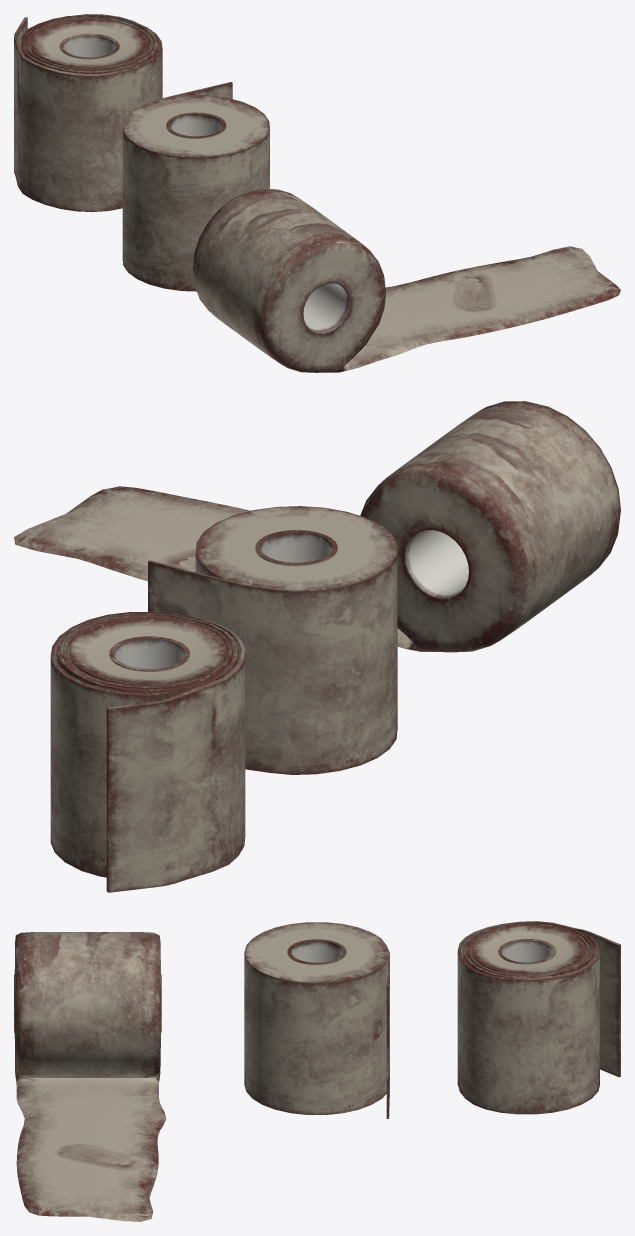
Rendered from bandage.glb.
3 renders of one model, top to bottom at view 1: azimuth 30°, elevation 25°; view 2: azimuth 150°, elevation 25°; view 3: azimuth 270°, elevation 25°, orthographic. The views are drawn at different scales.
Visible parts, largest first — view 1: SM_bandages.002_4, SM_bandages.001_3, SM_bandages_2; view 2: SM_bandages.002_4, SM_bandages.001_3, SM_bandages_2; view 3: SM_bandages.002_4, SM_bandages.001_3, SM_bandages_2.
Boxes of the visible parts, x1=… form: SM_bandages.002_4: x1=192, y1=189, x2=620, y2=372; SM_bandages.001_3: x1=14, y1=14, x2=162, y2=212; SM_bandages_2: x1=122, y1=82, x2=269, y2=291; SM_bandages.002_4: x1=14, y1=401, x2=620, y2=652; SM_bandages.001_3: x1=50, y1=612, x2=245, y2=892; SM_bandages_2: x1=148, y1=506, x2=397, y2=774; SM_bandages.002_4: x1=14, y1=932, x2=166, y2=1221; SM_bandages.001_3: x1=457, y1=921, x2=620, y2=1114; SM_bandages_2: x1=244, y1=922, x2=389, y2=1118.
Size of the model in its own units: 0.3565 by 0.1249 by 0.4975.
1 material, 1 textured.
